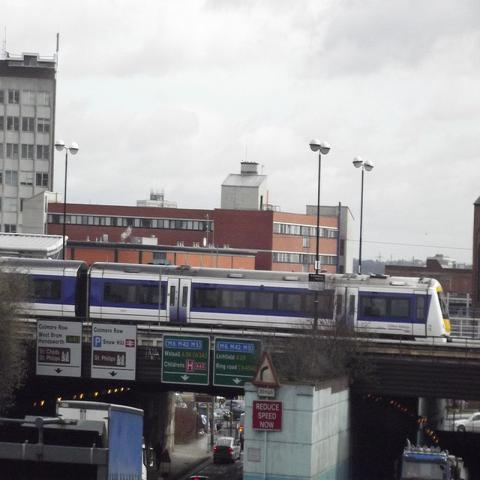car: (214, 436, 240, 462), (452, 412, 480, 434), (222, 399, 245, 417), (214, 403, 224, 431), (223, 412, 230, 421)
truck: (57, 401, 149, 479), (400, 436, 464, 479)
